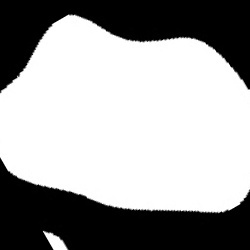crack: (44, 231, 67, 249)
spot: (0, 15, 249, 213)
